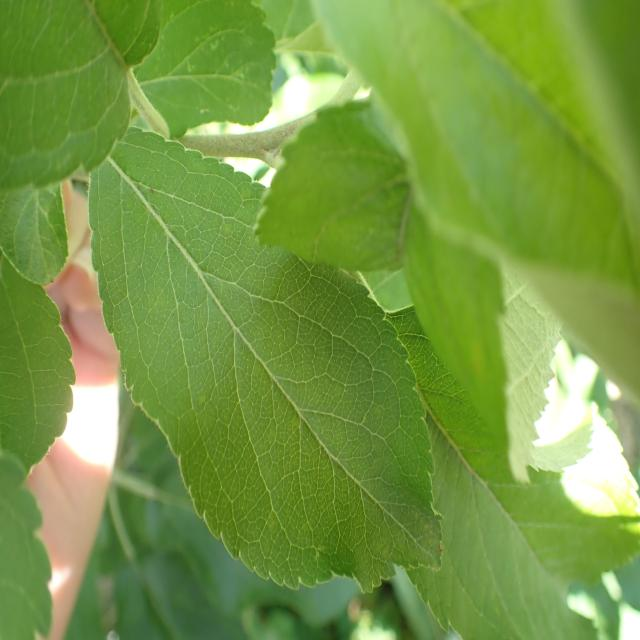healthy: (89, 128, 444, 594), (313, 0, 640, 488), (381, 304, 640, 639), (0, 0, 162, 192), (253, 98, 411, 275), (132, 0, 278, 138), (0, 247, 76, 478), (0, 451, 53, 640), (0, 182, 69, 287)
